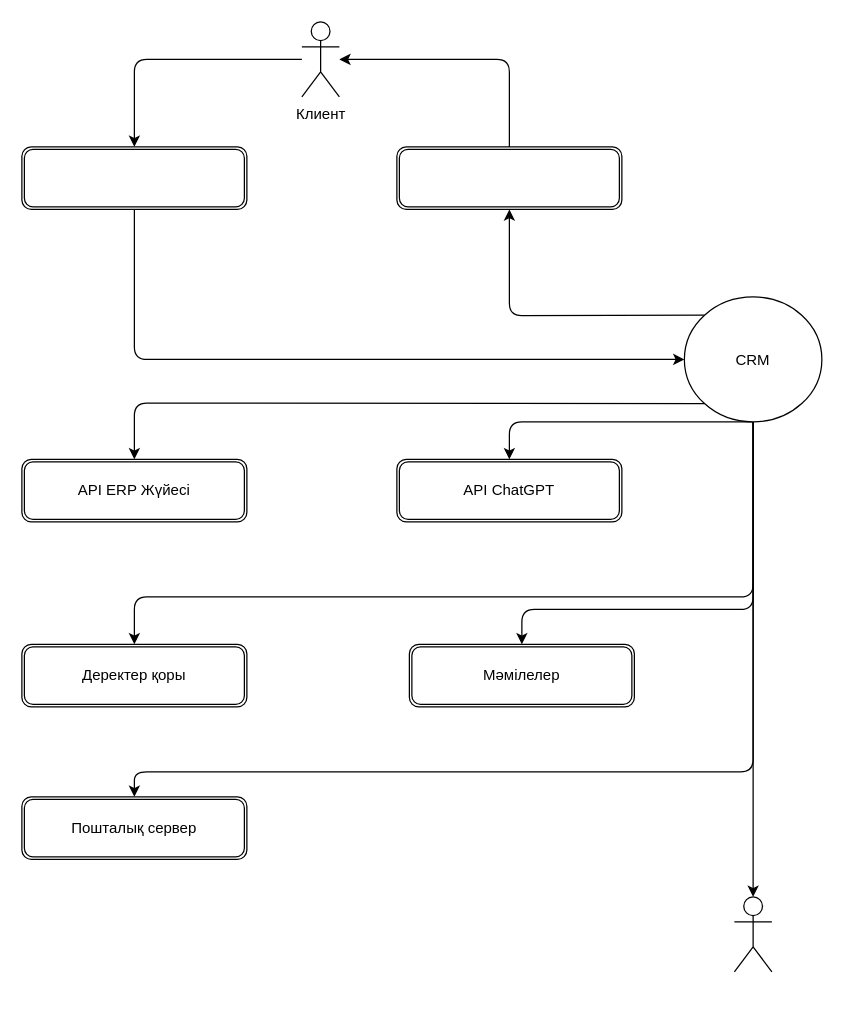
Image size: 844x1020. Some labels were removed from this diagram. Here are the shapes that lost their labels. From the top down, the centre of each, then its label:
the point at 134,177: Контакт/Клиенттік қосымша
the point at 509,177: Кері байланыс
the point at 752,934: Сату бөлімі
